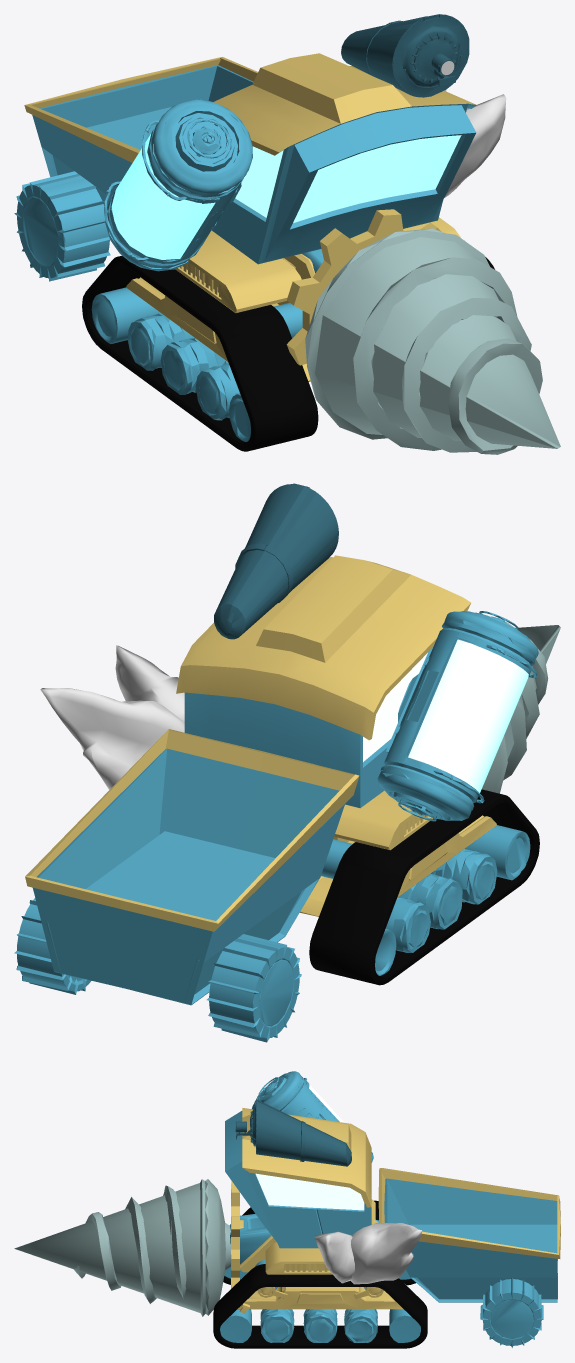
The model's file is drill.fbx.
The picture shows the model from 3 angles, top to bottom: view 1: azimuth 30°, elevation 25°; view 2: azimuth 150°, elevation 25°; view 3: azimuth 270°, elevation 25°; orthographic projection. The views are drawn at different scales.
Parts seen in each view (by area): view 1: Arm_Drill, Cube, lid.005, Bottom_TracksR.001, Cube.001, Bottom_TrackWheelsRB.002, Bottom_VentsBaseR.001, Bottom_TrackRotatorsRBD.004, MainBoiler.003, Cylinder.002, SM_RoughRock01_low.001; view 2: Cube.001, Cube, lid.005, Bottom_TracksR.001, Bottom_TrackRotatorsRBD.004, MainBoiler.003, Bottom_TrackWheelsRB.002, SM_RoughRock02_low.001, Bottom_VentsBaseR.001, Arm_Drill, SM_RoughRock01_low.001; view 3: Cube.001, Arm_Drill, Cube, Bottom_TracksR.002, Bottom_VentsBaseR.001, Bottom_TrackWheelsRB.002, MainBoiler.003, Bottom_TrackRotatorsRBD.004, SM_RoughRock02_low.001, lid.005, SM_RoughRock01_low.001, Arm_DrillBase (+1 smaller).
Part boxes in pixels (x1,y1,x2,y2): Arm_Drill: (305, 228, 560, 454); Cube: (211, 53, 476, 264); lid.005: (104, 99, 252, 271); Bottom_TracksR.001: (82, 255, 318, 451); Cube.001: (24, 57, 257, 205); Bottom_TrackWheelsRB.002: (91, 287, 302, 441); Bottom_VentsBaseR.001: (126, 217, 460, 381); Bottom_TrackRotatorsRBD.004: (14, 171, 110, 281); MainBoiler.003: (341, 14, 469, 97); Cylinder.002: (286, 209, 440, 365); SM_RoughRock01_low.001: (444, 94, 506, 197); Cube.001: (25, 729, 359, 1005); Cube: (176, 555, 470, 808); lid.005: (377, 611, 538, 821); Bottom_TracksR.001: (309, 789, 539, 985); Bottom_TrackRotatorsRBD.004: (14, 898, 301, 1042); MainBoiler.003: (214, 483, 338, 639); Bottom_TrackWheelsRB.002: (321, 825, 530, 975); SM_RoughRock02_low.001: (40, 688, 184, 789); Bottom_VentsBaseR.001: (300, 790, 496, 916); Arm_Drill: (482, 621, 560, 793); SM_RoughRock01_low.001: (115, 645, 184, 721); Cube.001: (378, 1168, 560, 1302); Arm_Drill: (14, 1179, 230, 1316); Cube: (225, 1108, 371, 1248); Bottom_TracksR.002: (213, 1264, 427, 1348); Bottom_VentsBaseR.001: (237, 1199, 407, 1314); Bottom_TrackWheelsRB.002: (220, 1220, 420, 1342); MainBoiler.003: (235, 1099, 351, 1166); Bottom_TrackRotatorsRBD.004: (480, 1277, 543, 1347); SM_RoughRock02_low.001: (350, 1223, 421, 1284); lid.005: (252, 1071, 373, 1162); SM_RoughRock01_low.001: (314, 1232, 354, 1283); Arm_DrillBase: (229, 1213, 271, 1263).
Bounding box in the file's own units: 445 × 398 × 860.
